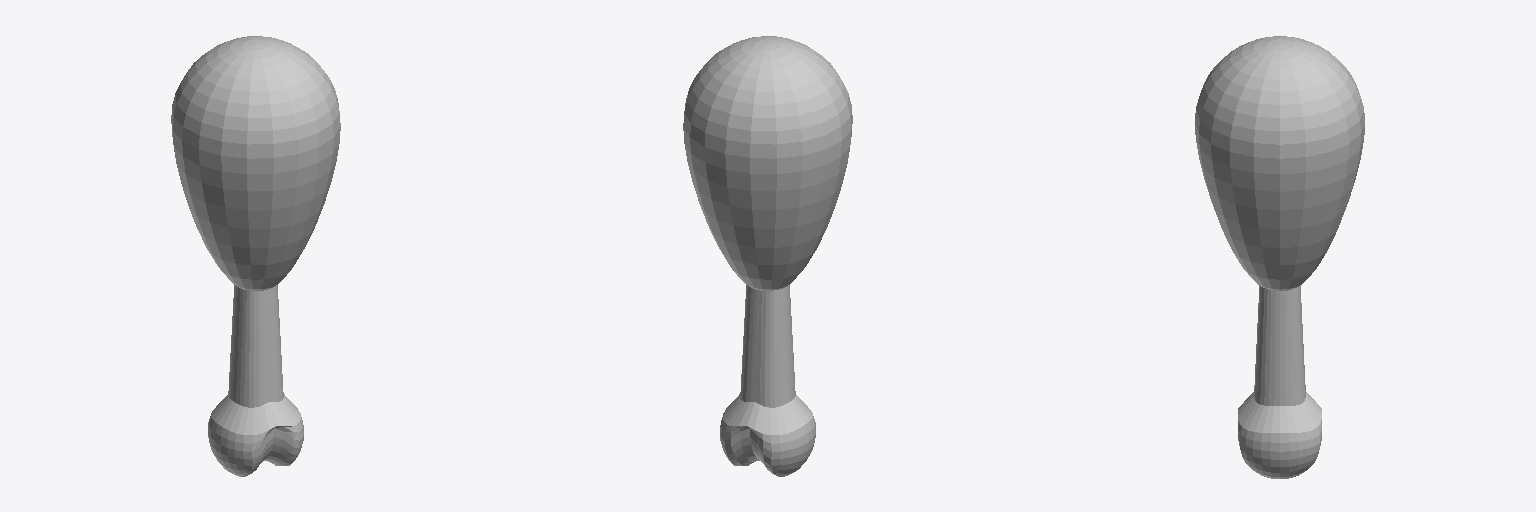
The model's file is food.obj.
3 renders of one model, left to right at view 1: azimuth 30°, elevation 25°; view 2: azimuth 150°, elevation 25°; view 3: azimuth 270°, elevation 25°, orthographic.
Parts seen in each view (by area): view 1: pCube2; view 2: pCube2; view 3: pCube2.
Boxes of the visible parts, box(x1,y1,x2,y2) form: pCube2: box(171, 36, 340, 476); pCube2: box(683, 36, 852, 476); pCube2: box(1195, 36, 1364, 478).
Bounding box in the file's own units: 7.65 × 20.98 × 7.65.